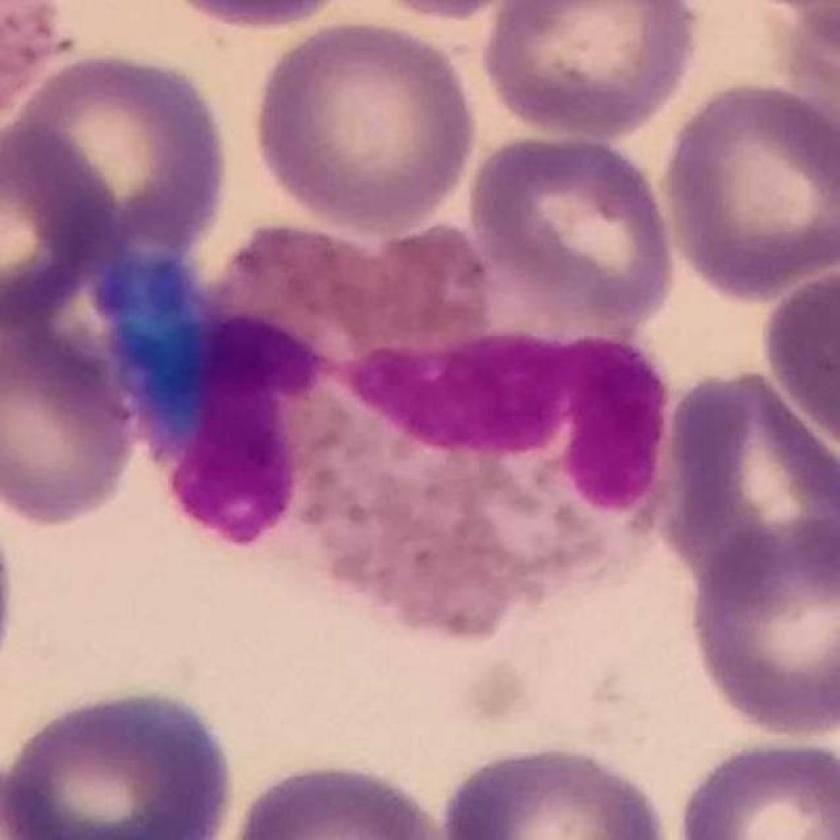eosinophil: (201, 200, 673, 622)
